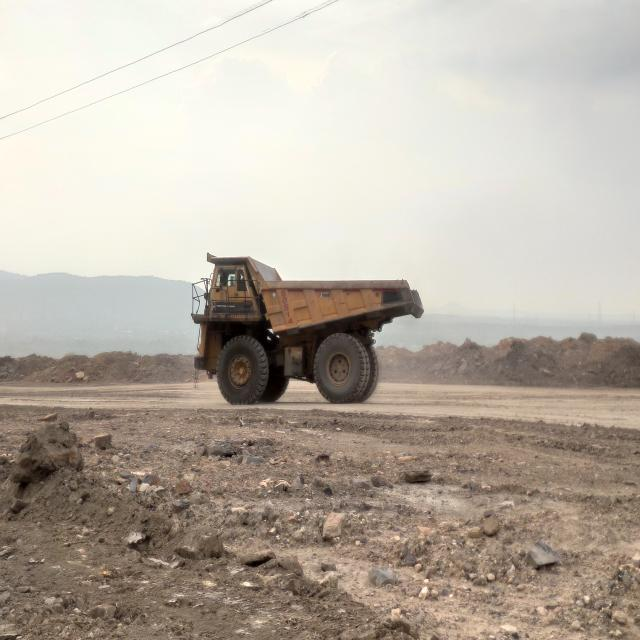dump_truck: (192, 255, 422, 403)
